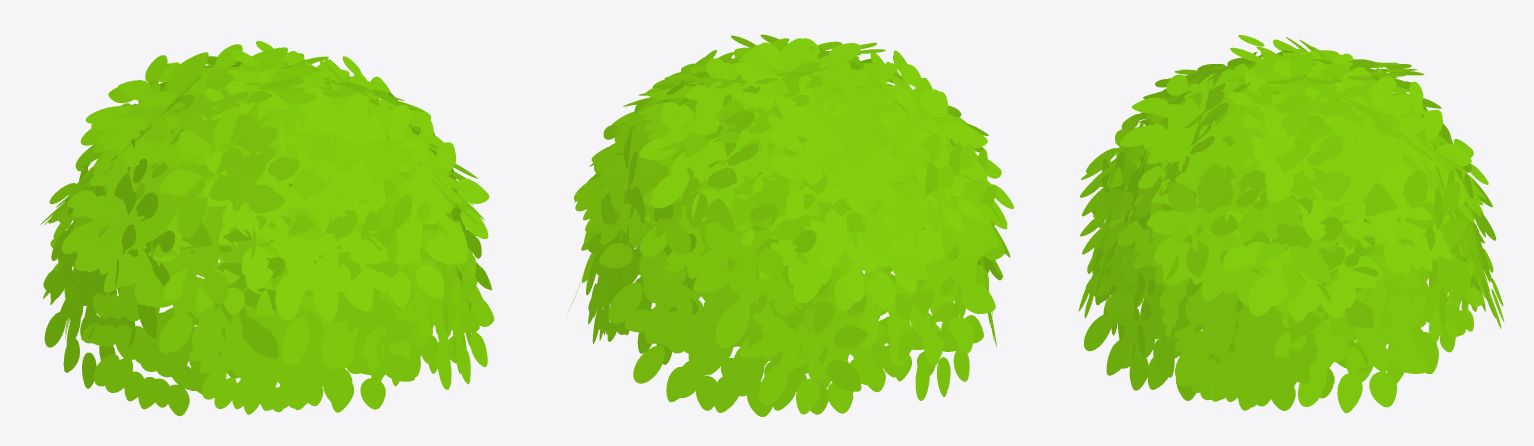
File: Bush.glb
3 views of the same model, side by side, from view 1: azimuth 30°, elevation 25°; view 2: azimuth 150°, elevation 25°; view 3: azimuth 270°, elevation 25° (orthographic). The views are drawn at different scales.
Bounding box in the file's own units: 1.09 × 0.6916 × 1.05.
1 material, 1 textured.
